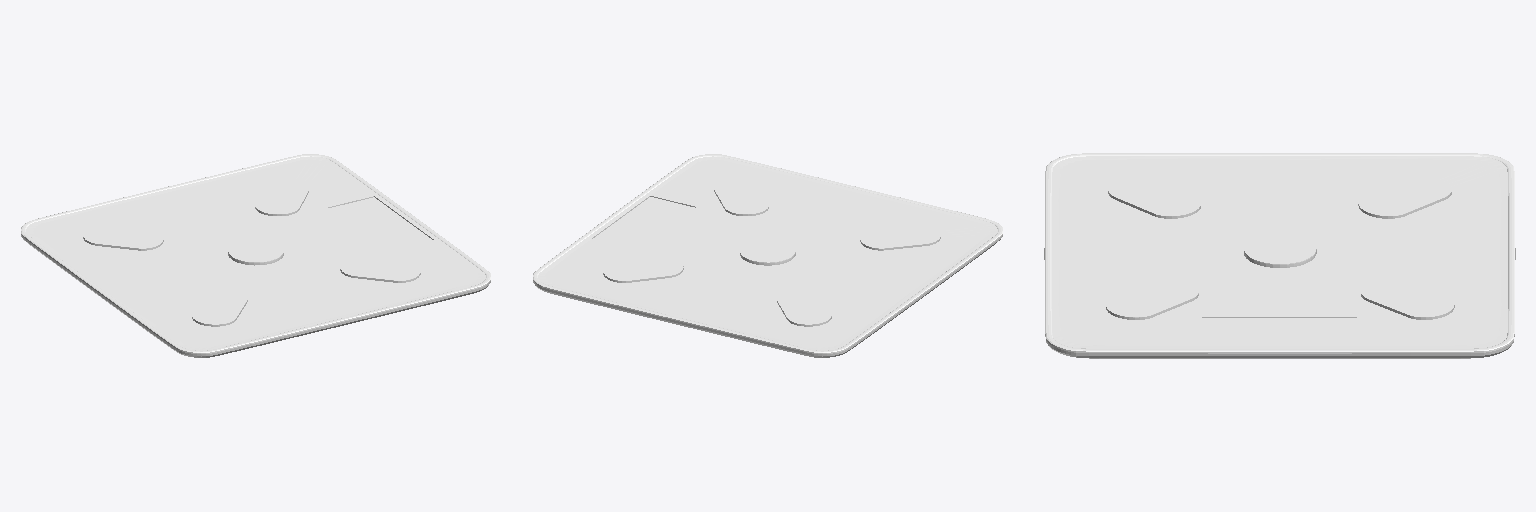
The robot description file, URDF, robot "body_weight":
<robot name="body_weight" version="1.0">
  <link name="base_link">
    <collision name="body_wegiht_collision">
      <origin rpy="3.14159 -1.57080 0.00000" xyz="-0.00006 -0.00001 -0.00024"/>
      <geometry>
        <box size="0.02718 0.59563 0.58630"/>
      </geometry>
    </collision>
    <inertial>
      <inertia ixx="0.00296" ixy="-0.00000" ixz="0.00000" iyy="0.00287" iyz="0.00000" izz="0.00582"/>
      <origin rpy="0.00000 0.00000 0.00000" xyz="-0.00006 -0.00001 -0.00024"/>
      <mass value="0.10000"/>
    </inertial>
    <visual name="body_wegiht">
      <material name="Material"/>
      <origin rpy="3.14159 -1.57080 0.00000" xyz="0.00000 0.00000 0.00000"/>
      <geometry>
        <mesh filename="package://ros_package/meshes/dae/Cube.006.dae" scale="1 1 1"/>
      </geometry>
    </visual>
  </link>
  <material name="Material">
    <color rgba="1.00000 1.00000 1.00000 1.00000"/>
  </material>
</robot>

--- Facts derived from the render (not from the file) ---
The picture shows the robot from 3 angles, left to right: view 1: azimuth 30°, elevation 25°; view 2: azimuth 150°, elevation 25°; view 3: azimuth 270°, elevation 25°; orthographic projection.
Model body_weight with 1 links and 0 joints (none), rooted at base_link, posed every joint at zero.
Links seen in each view (by area): view 1: base_link; view 2: base_link; view 3: base_link.
Boxes of the visible links, bbox=[...] form: base_link: bbox=[21, 154, 490, 357]; base_link: bbox=[533, 154, 1002, 357]; base_link: bbox=[1044, 153, 1515, 358].
Bounding box of the posed robot: 0.6 × 0.6 × 0.03 m (x, y, z).
1 mesh visuals loaded from 1 distinct referenced files (1 Collada DAE).
